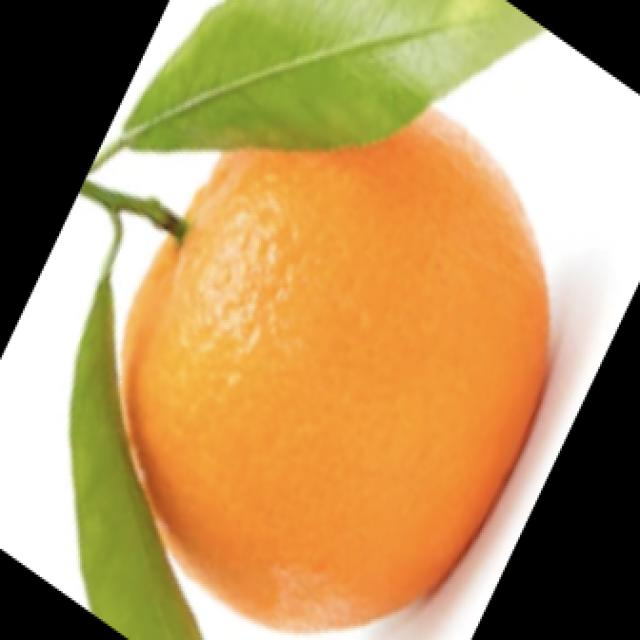fresh: (54, 7, 571, 638)
